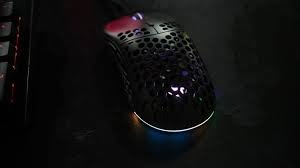mouse: (97, 7, 222, 140)
